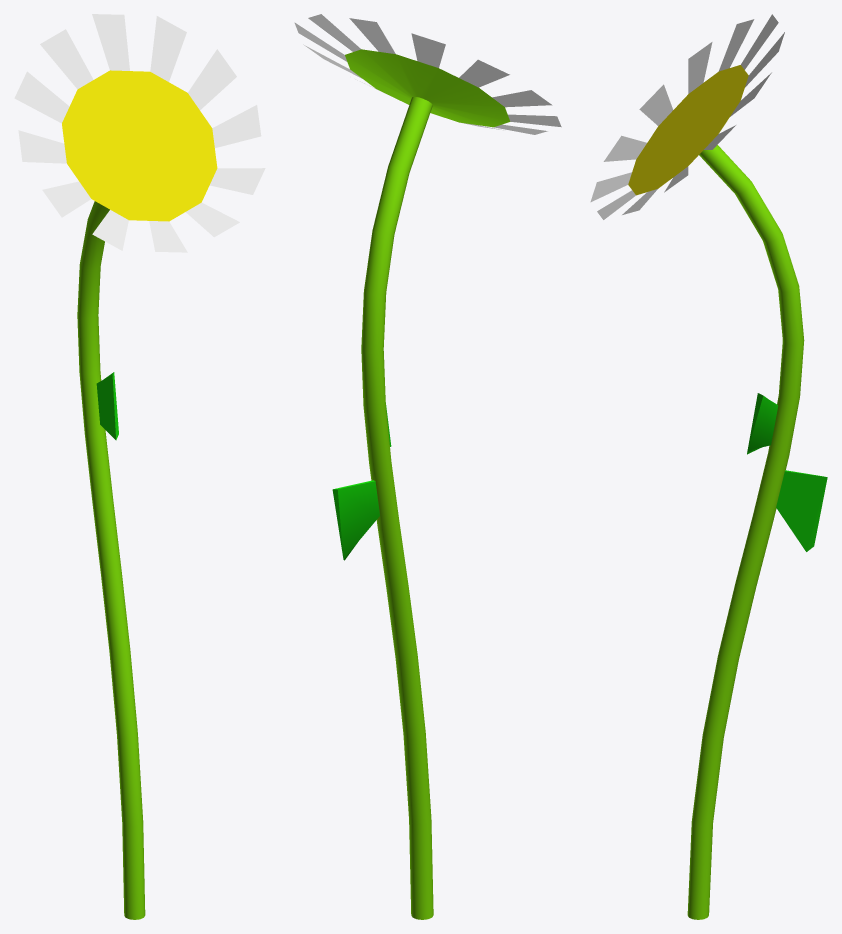
The model's file is flower_new 1.fbx.
3 views of the same model, side by side, from view 1: azimuth 30°, elevation 25°; view 2: azimuth 150°, elevation 25°; view 3: azimuth 270°, elevation 25° (orthographic). The views are drawn at different scales.
Visible parts, largest first — view 1: BezierCurve; view 2: BezierCurve; view 3: BezierCurve.
Part boxes in pixels (<box>): BezierCurve: <box>14,14,265,919</box>; BezierCurve: <box>294,14,561,919</box>; BezierCurve: <box>590,14,827,919</box>.
Bounding box in the file's own units: 64.27 × 228 × 55.42.
